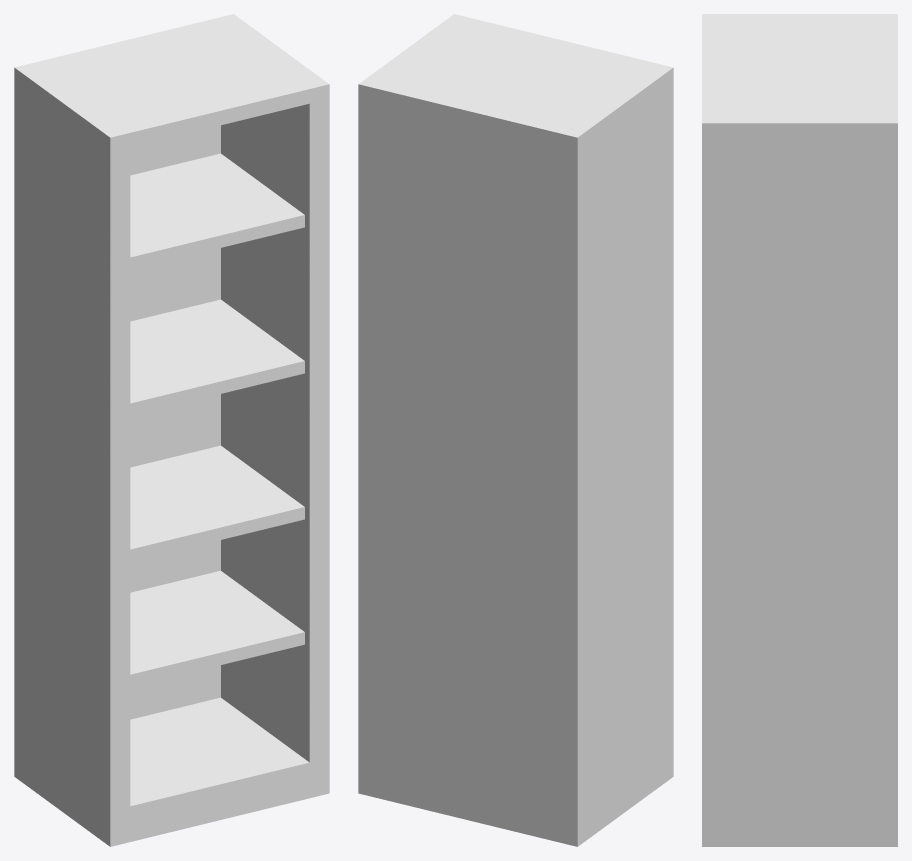
The model's file is Shelves_2A.fbx.
3 renders of one model, left to right at view 1: azimuth 30°, elevation 25°; view 2: azimuth 150°, elevation 25°; view 3: azimuth 270°, elevation 25°, orthographic. The views are drawn at different scales.
Parts seen in each view (by area): view 1: polySurface1499; view 2: polySurface1499; view 3: polySurface1499.
Boxes of the visible parts, x1,y1,x2,y2 form: polySurface1499: (14,14,329,846); polySurface1499: (358,14,673,846); polySurface1499: (702,14,897,846).
Size of the model in its own units: 1.1 by 3.4 by 0.8338.
1 material, 1 textured.
